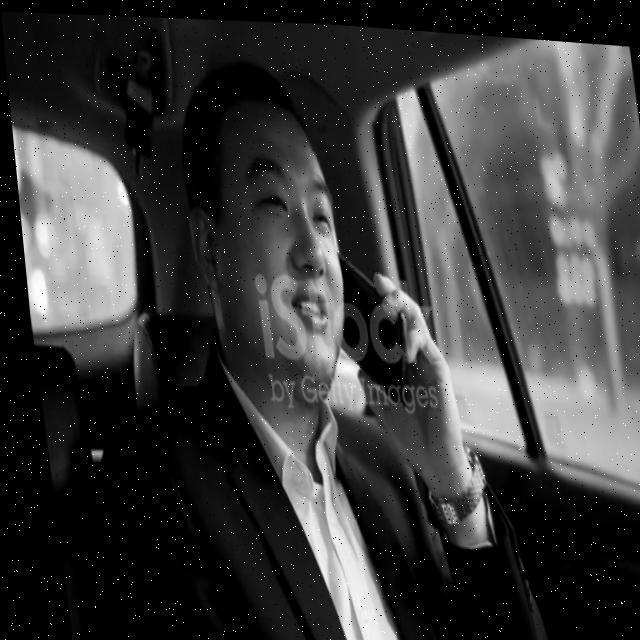PhoneCall: (327, 247, 408, 404)
